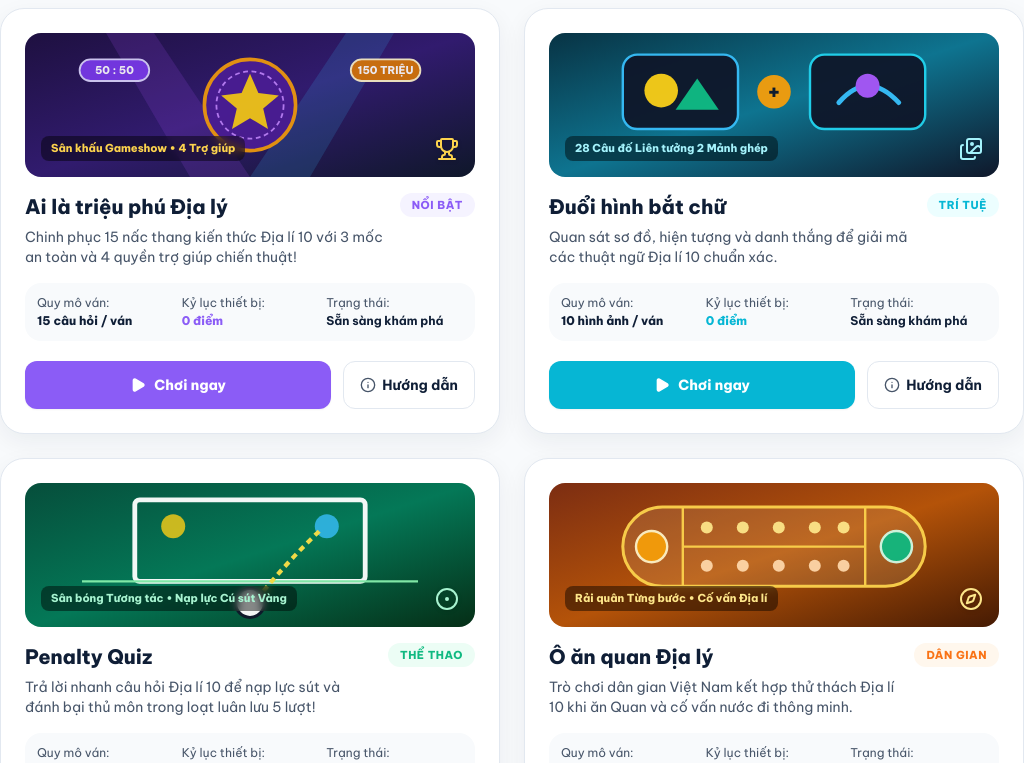
it: StudentGamesPage & StudentLab3DPage UI Integration › renders Game Center with all 4 Geography 10 games and opens rules modal
(page scrolled)
Click the button "Hướng dẫn" below "15 câu hỏi / ván": x=409, y=384 [343,360,475,408]
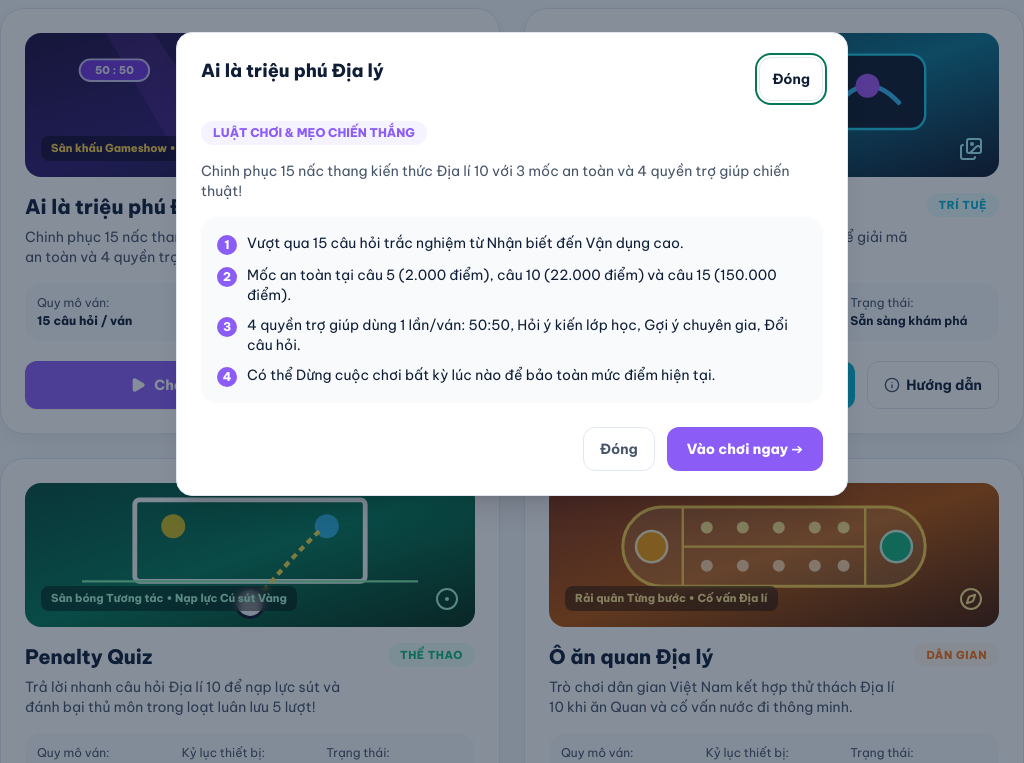
Now the dialog shows "Ai là triệu phú Địa lý", box [201,59,384,82]
